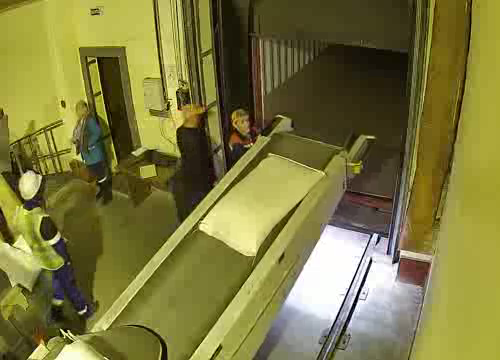bag: (195, 152, 331, 261), (37, 333, 119, 360)
